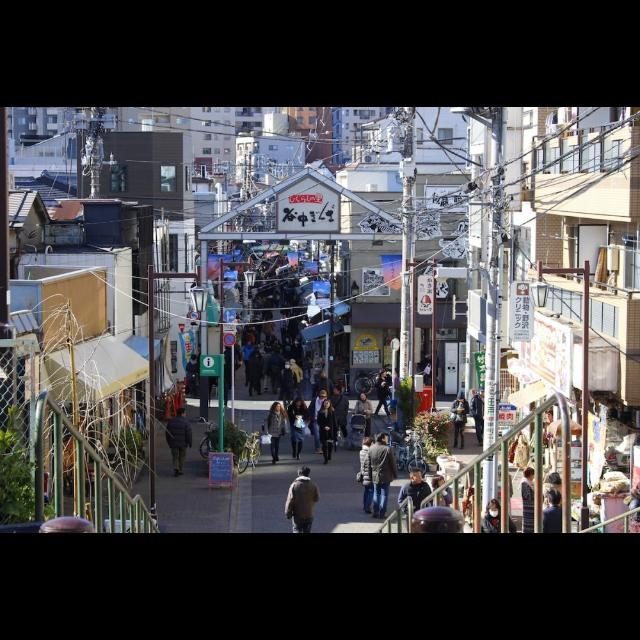head: (547, 490, 563, 508), (488, 500, 502, 520), (410, 469, 422, 486), (548, 474, 562, 488), (524, 468, 536, 482), (298, 466, 310, 479), (374, 432, 388, 443), (176, 408, 188, 420), (434, 476, 446, 488), (364, 438, 376, 450), (295, 398, 305, 408), (333, 386, 342, 396), (273, 403, 281, 413), (320, 392, 328, 402), (323, 400, 331, 410), (251, 350, 259, 360), (319, 370, 327, 380), (360, 393, 368, 402), (458, 396, 466, 404), (479, 389, 487, 397), (380, 370, 388, 378), (272, 350, 280, 358), (285, 361, 291, 369), (191, 356, 197, 362), (289, 360, 295, 366), (248, 341, 252, 347)
person: (368, 430, 400, 522), (354, 436, 380, 518), (260, 401, 292, 467), (164, 407, 193, 479), (469, 386, 497, 450), (308, 389, 334, 456), (289, 395, 311, 463), (328, 386, 350, 452), (350, 393, 374, 451), (315, 397, 335, 465), (312, 367, 336, 421), (450, 390, 470, 452), (276, 361, 298, 415), (373, 367, 393, 421), (245, 346, 265, 400), (238, 339, 258, 388), (284, 358, 304, 406), (262, 348, 280, 398), (185, 354, 201, 401)
